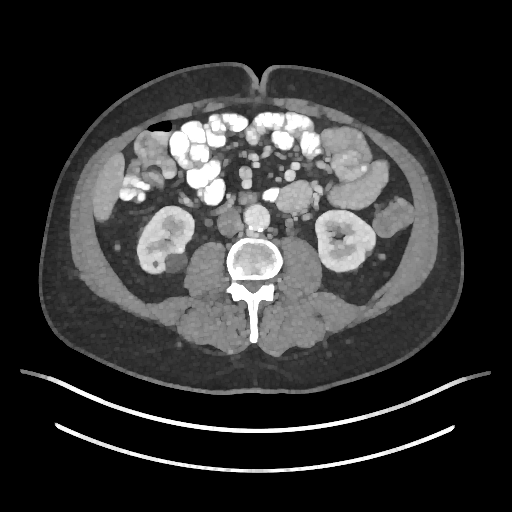Lesion: (163, 252, 190, 274)
